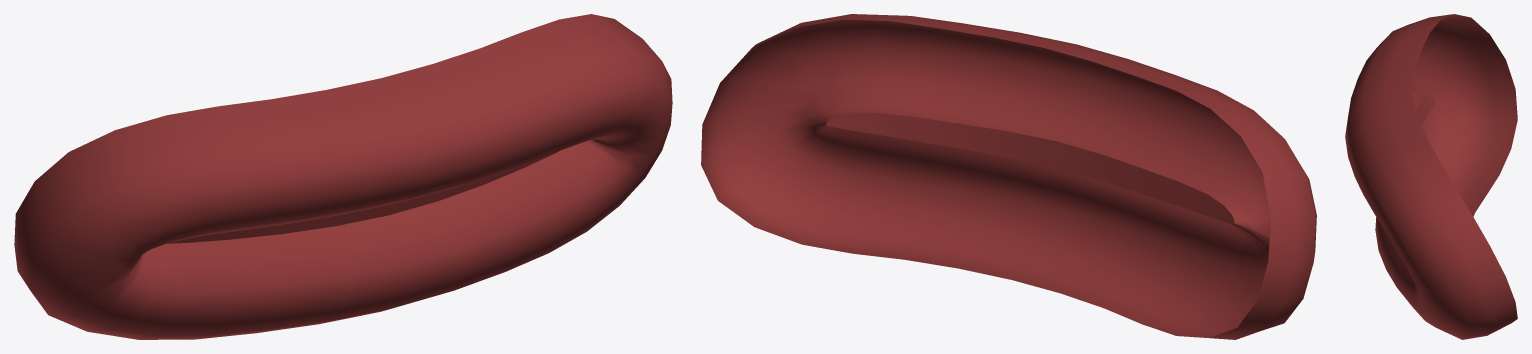
Rendered from Mouth05.fbx.
The picture shows the model from 3 angles, left to right: view 1: azimuth 30°, elevation 25°; view 2: azimuth 150°, elevation 25°; view 3: azimuth 270°, elevation 25°; orthographic projection. The views are drawn at different scales.
Parts seen in each view (by area): view 1: Mouth6; view 2: Mouth6; view 3: Mouth6.
Boxes of the visible parts, x1,y1,x2,y2 form: Mouth6: (14,14,672,339); Mouth6: (701,14,1316,339); Mouth6: (1345,14,1517,339).
Size of the model in its own units: 4.43 by 1.56 by 1.41.
